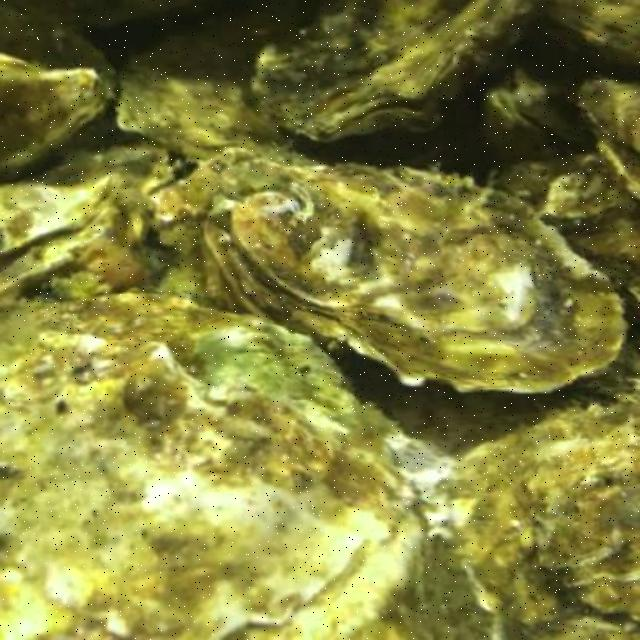Oyster-Closed: (0, 290, 427, 638), (197, 162, 620, 385), (424, 406, 638, 638), (0, 58, 111, 173)
Oyster-Open: (264, 0, 530, 135), (0, 179, 120, 296)
